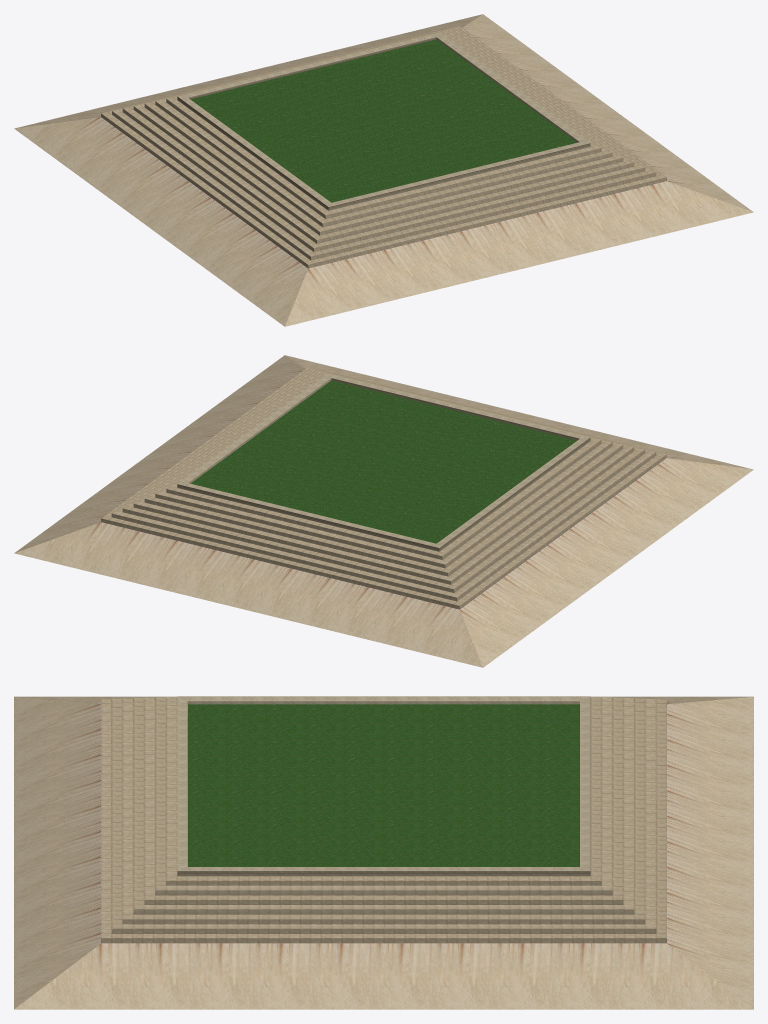
The model's file is ply_nboo_garden_med_s01_l0.fbx.
The picture shows the model from 3 angles, top to bottom: view 1: azimuth 30°, elevation 25°; view 2: azimuth 150°, elevation 25°; view 3: azimuth 270°, elevation 25°; orthographic projection. The views are drawn at different scales.
Visible parts, largest first — view 1: mesh_node; view 2: mesh_node; view 3: mesh_node.
Part boxes in pixels (bbox=[...]): mesh_node: bbox=[14, 14, 753, 326]; mesh_node: bbox=[14, 355, 753, 667]; mesh_node: bbox=[14, 696, 753, 1009].
Size of the model in its own units: 34 by 3.51 by 34.
